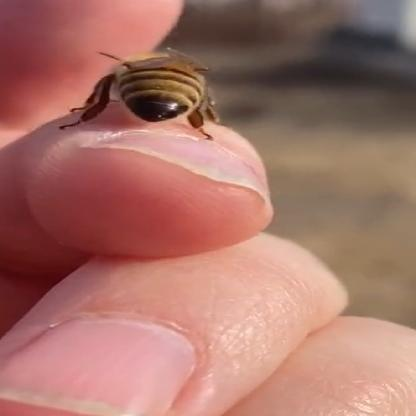bee: (29, 35, 270, 152)
